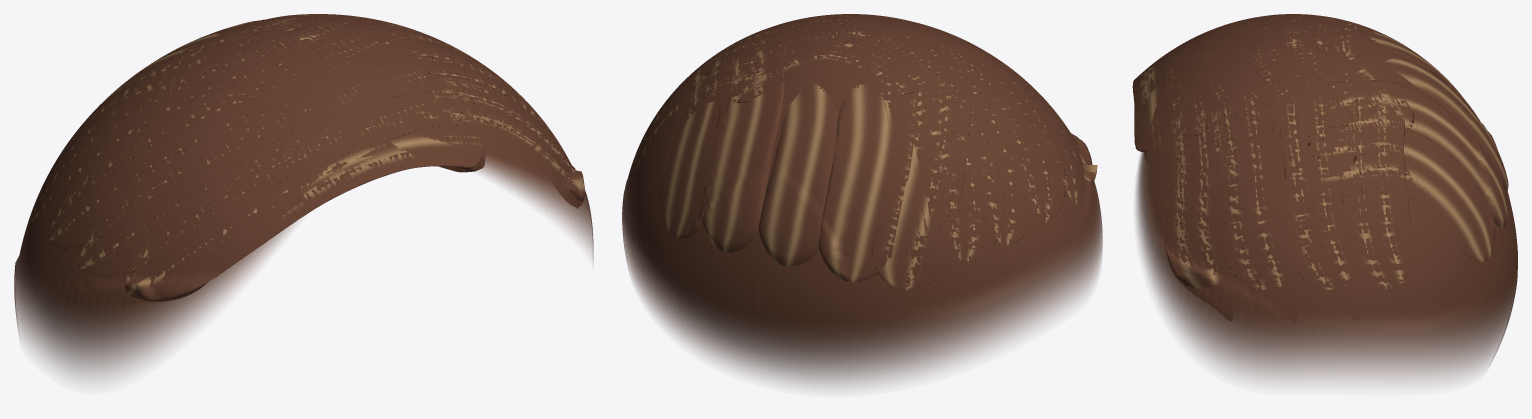
The model's file is Highlights-5ce50f685e44252-hair.glb.
The picture shows the model from 3 angles, left to right: view 1: azimuth 30°, elevation 25°; view 2: azimuth 150°, elevation 25°; view 3: azimuth 270°, elevation 25°; orthographic projection. The views are drawn at different scales.
Visible parts, largest first — view 1: 226 hair / Hair252 / restored153 fade coverage.001, 226 hair / Hair252 / gentle tonal variation.001, 226 hair / Hair252 / sculpted locks.001; view 2: 226 hair / Hair252 / restored153 fade coverage.001, 226 hair / Hair252 / sculpted locks.001, 226 hair / Hair252 / gentle tonal variation.001; view 3: 226 hair / Hair252 / restored153 fade coverage.001, 226 hair / Hair252 / sculpted locks.001, 226 hair / Hair252 / gentle tonal variation.001.
Part boxes in pixels (x1,y1,x2,y2): 226 hair / Hair252 / restored153 fade coverage.001: (14,14,593,379); 226 hair / Hair252 / gentle tonal variation.001: (108,33,584,301); 226 hair / Hair252 / sculpted locks.001: (31,14,566,276); 226 hair / Hair252 / restored153 fade coverage.001: (622,14,1102,386); 226 hair / Hair252 / sculpted locks.001: (634,14,1083,290); 226 hair / Hair252 / gentle tonal variation.001: (818,33,1097,282); 226 hair / Hair252 / restored153 fade coverage.001: (1135,14,1517,382); 226 hair / Hair252 / sculpted locks.001: (1157,14,1508,291); 226 hair / Hair252 / gentle tonal variation.001: (1132,25,1497,288).
Bounding box in the file's own units: 0.976 × 0.6423 × 0.7157.
Materials: 3 (3 with a texture image).
